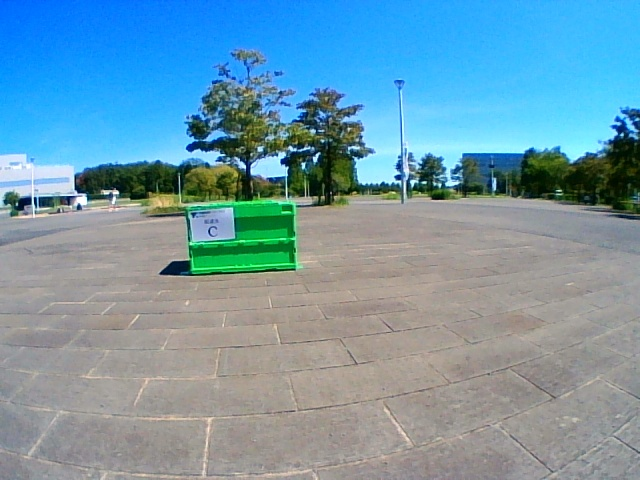green_box: (184, 200, 297, 274)
tag_c: (193, 211, 233, 239)
